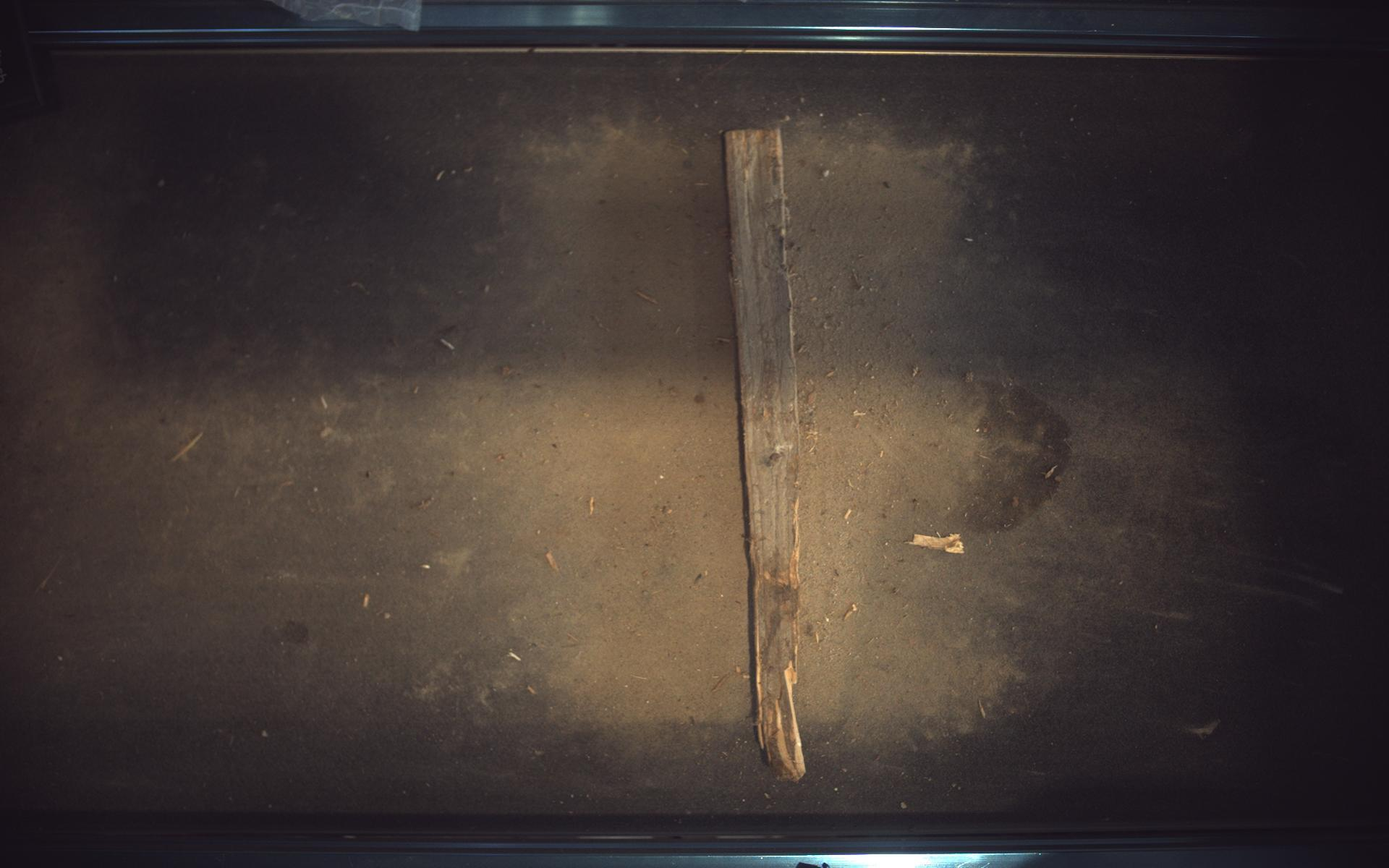wood: (726, 128, 807, 783)
